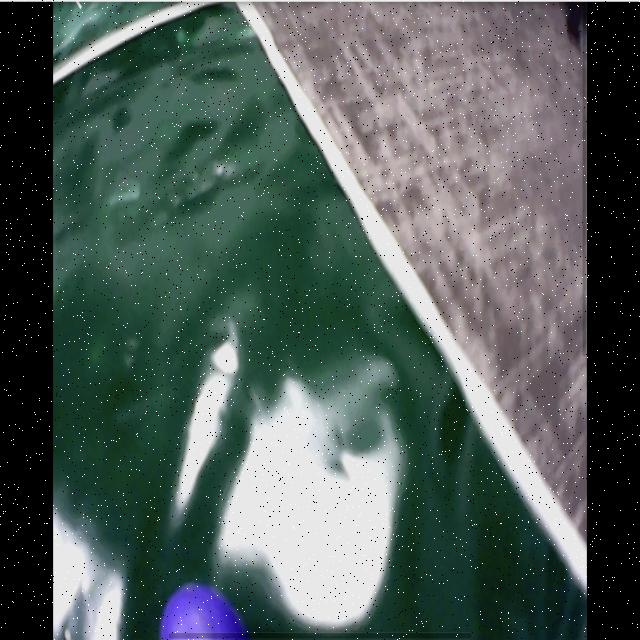ball: (162, 585, 244, 640)
